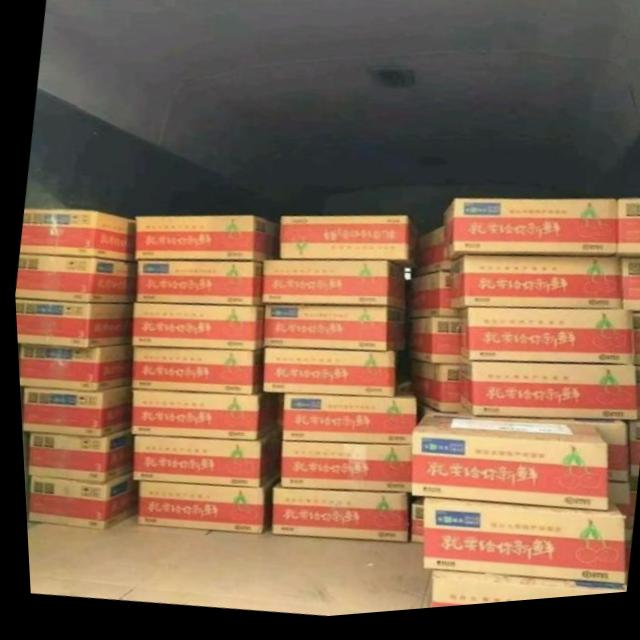box: (406, 420, 603, 521), (417, 505, 620, 595), (456, 361, 633, 430), (440, 206, 615, 269), (453, 315, 630, 376), (447, 263, 620, 319), (265, 486, 402, 550), (127, 433, 275, 491), (125, 391, 274, 443), (256, 264, 403, 316), (130, 482, 266, 538), (421, 577, 620, 615), (278, 397, 412, 451), (277, 221, 412, 274), (518, 427, 625, 493), (259, 308, 402, 357), (259, 352, 392, 404), (276, 445, 405, 498), (132, 218, 276, 265), (129, 304, 262, 354), (127, 348, 260, 397), (22, 474, 134, 531), (17, 209, 131, 264), (12, 298, 127, 350), (12, 254, 131, 304), (132, 263, 258, 310), (22, 431, 130, 484), (18, 387, 126, 438), (15, 345, 129, 392), (406, 366, 458, 421), (403, 325, 456, 372), (403, 278, 452, 325), (408, 234, 449, 284), (614, 209, 640, 268), (616, 269, 640, 322)
